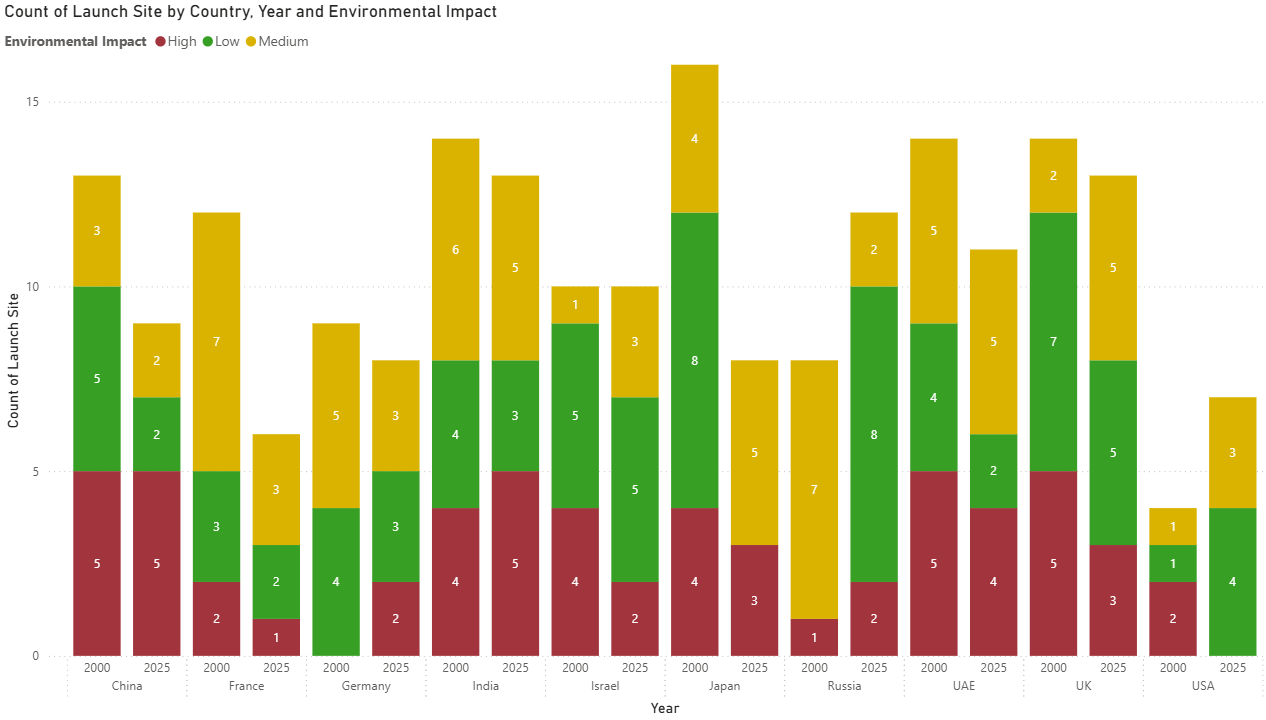

The dashboard page shown, as its layout file describes it:
{"tool":"powerbi","page":{"name":"Page 3","canvas":[1280,720],"ordinal":2},"visuals":[{"type":"clusteredColumnChart","fields":{"Category":["SpaceDataClean.Year"],"Series":["SpaceDataClean.Country"],"Y":["CountNonNull(SpaceDataClean.Launch Site)"]},"box":[10.7,58.4,1269.3,661.4],"z":0}]}

Visuals, with their boxes in screenshot pixels (x1, y1, x2, y2), scaled from the page's 1280x720 canvas onto the 1266x720 screenshot:
clusteredColumnChart - SpaceDataClean.Year x SpaceDataClean.Country: (11, 58, 1265, 719)
